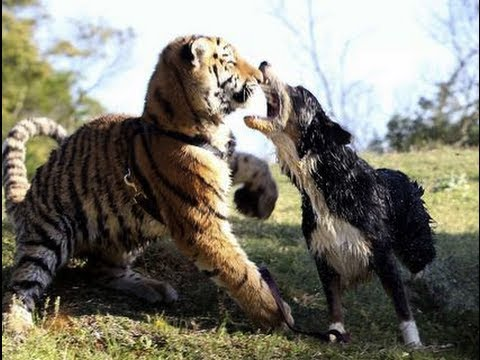dog: (245, 62, 443, 353)
tiger: (1, 33, 294, 333)
